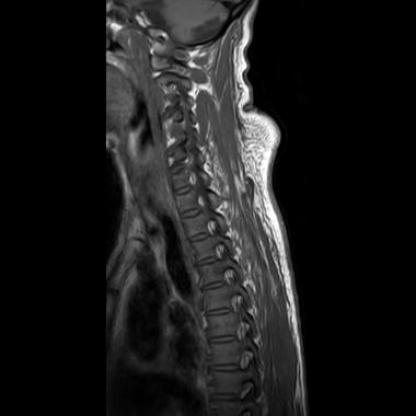Disc Protrusionrotation: (159, 104, 186, 123)
